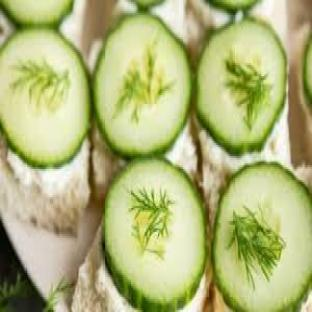Cucumber: (103, 158, 206, 311), (214, 164, 311, 311), (94, 13, 191, 157), (0, 28, 90, 167), (197, 19, 287, 154), (303, 36, 311, 105)
